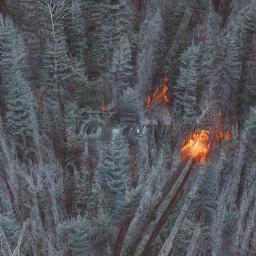Small fire: (129, 69, 237, 180)
